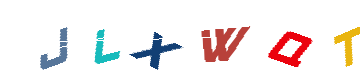J: (43, 0, 123, 80)
L: (116, 0, 196, 80)
Q: (250, 0, 330, 80)
T: (279, 0, 359, 80)
W: (185, 0, 265, 80)
X: (136, 0, 216, 80)
